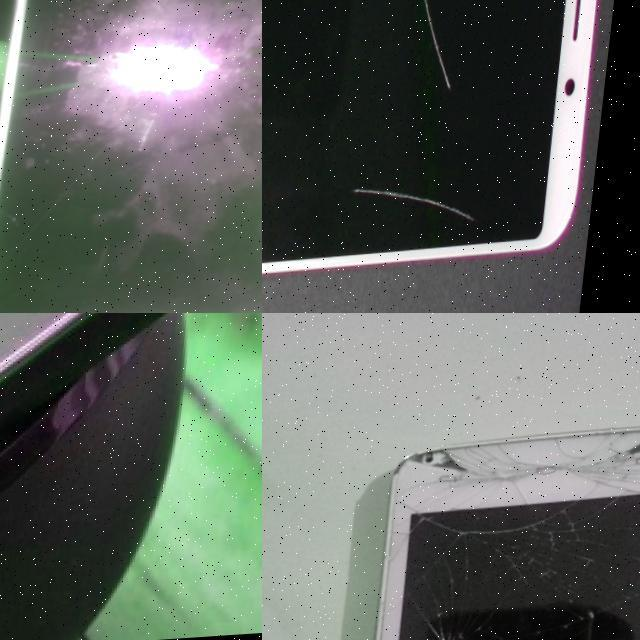scratch: (397, 0, 474, 105), (361, 191, 491, 237)
screen crack: (378, 415, 640, 552), (383, 598, 517, 640)
